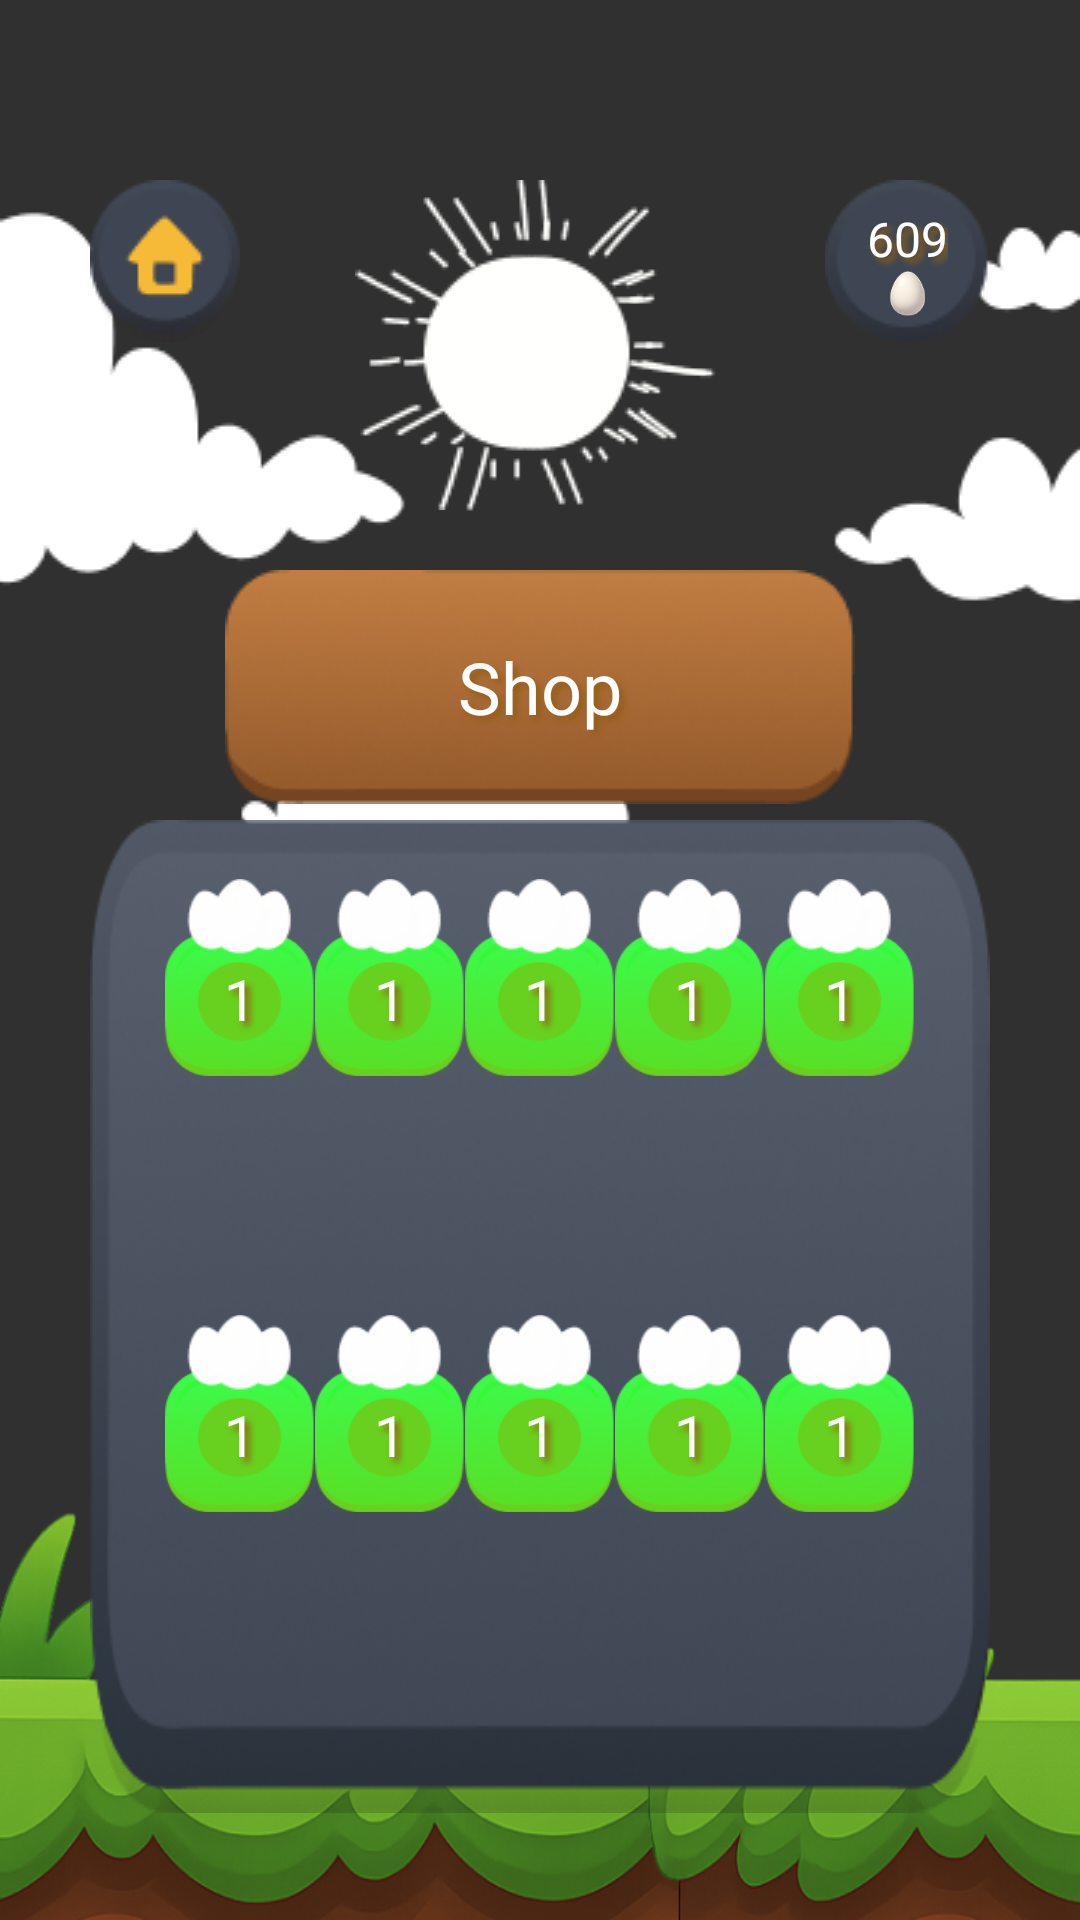

Icons on this 1080 × 1920 Android screen, each with its box as box(x1, y1, x2, y2):
egg: box(890, 271, 925, 316)
home: box(90, 180, 236, 342)
sun: box(355, 180, 709, 510)
